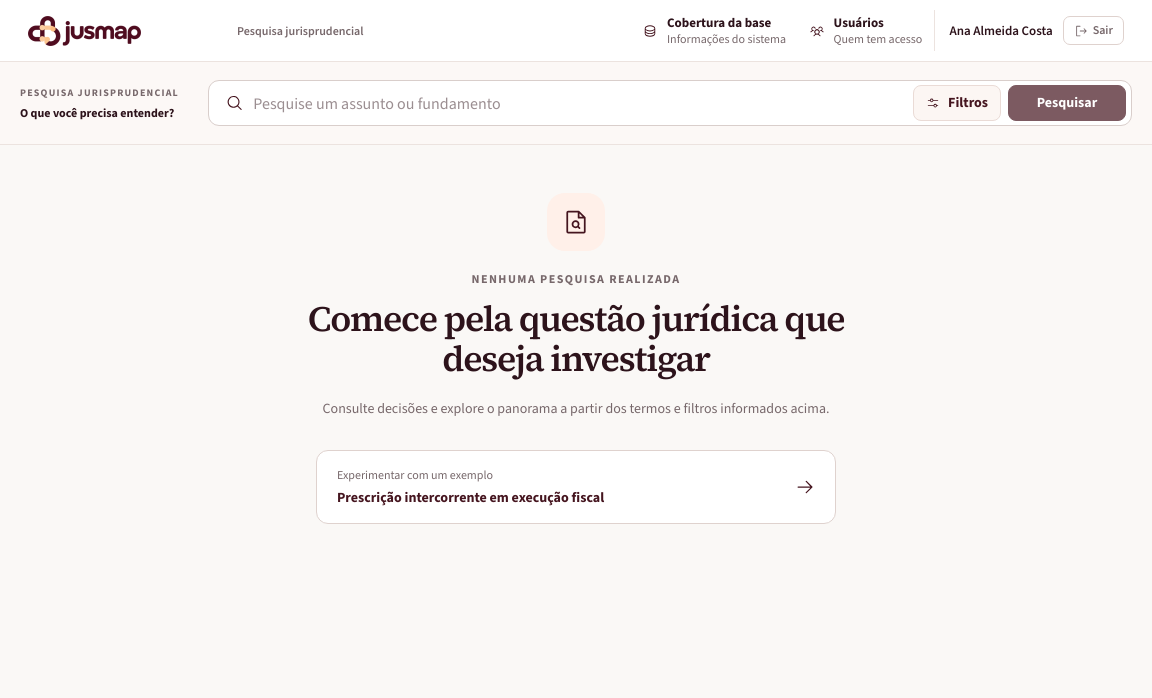
Test: the order selector › shows up beside the results on the order applied, relevance, sending no order
In the search field named "Pesquisar decisões": (578, 103) [253, 85, 903, 121], type "prescrição intercorrente em execução fiscal"
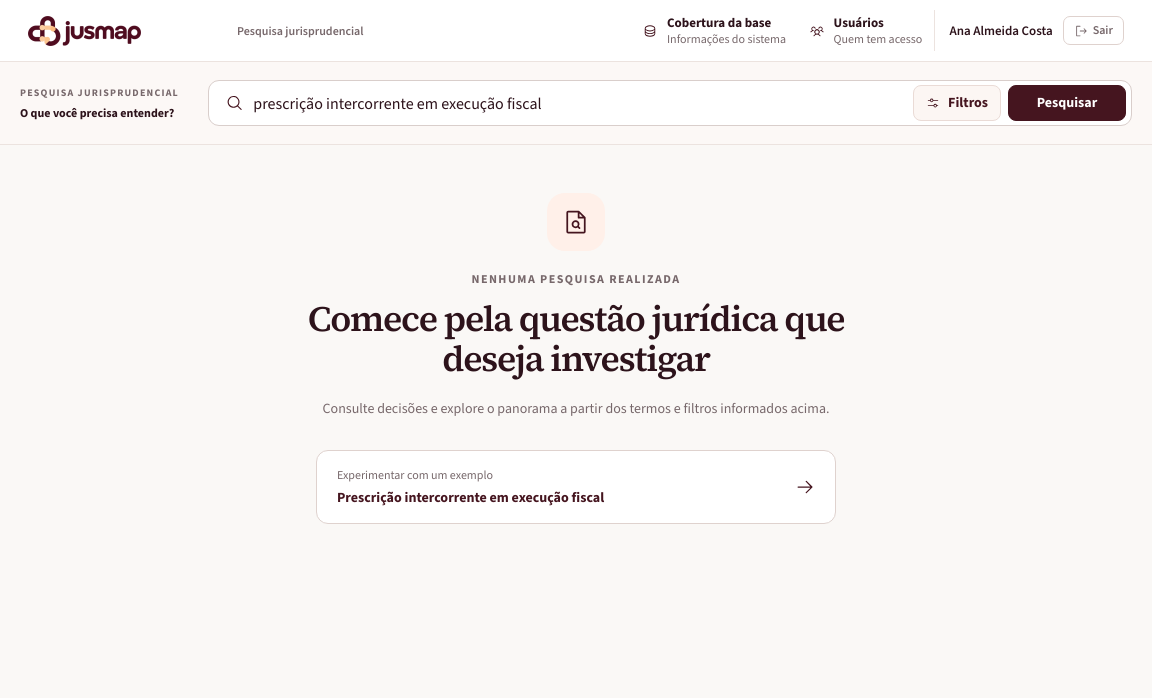
Click the button "Pesquisar": click(1067, 103) [1008, 85, 1126, 121]
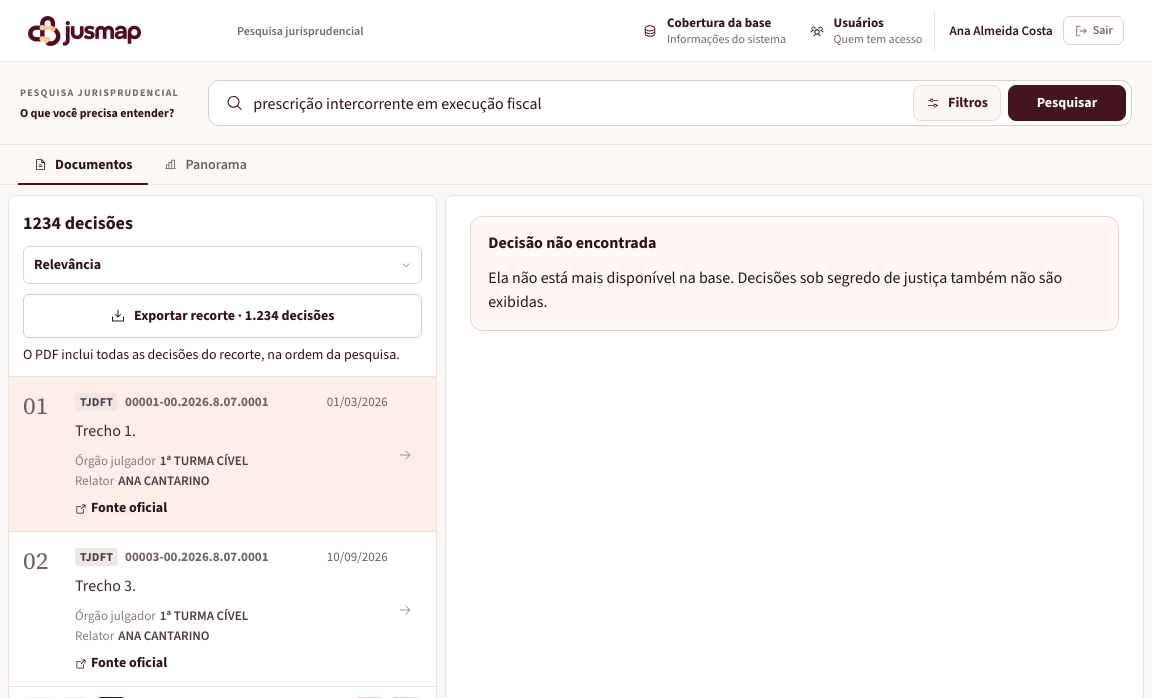
Expected: the dropdown named "Ordenar por" shows "Relevância", [23, 246, 422, 284]
